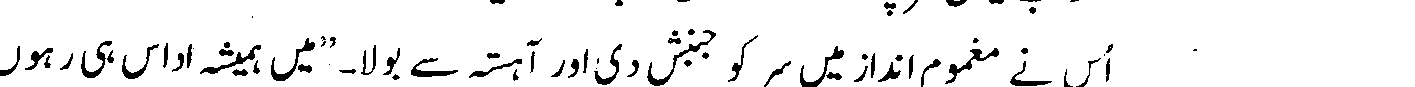bay_shosha: (681, 44, 694, 71)
